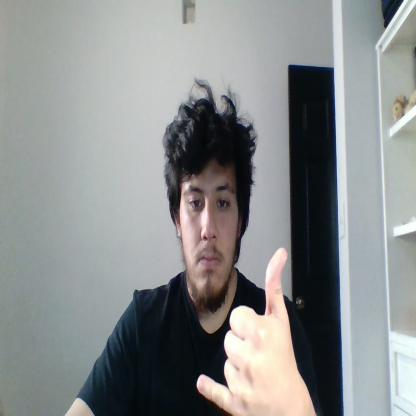Y: (197, 248, 304, 415)
